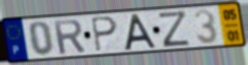0: (27, 20, 56, 58)
3: (193, 7, 218, 47)
A: (123, 12, 159, 52)
P: (90, 15, 120, 54)
R: (51, 18, 88, 56)
Z: (157, 9, 193, 49)
